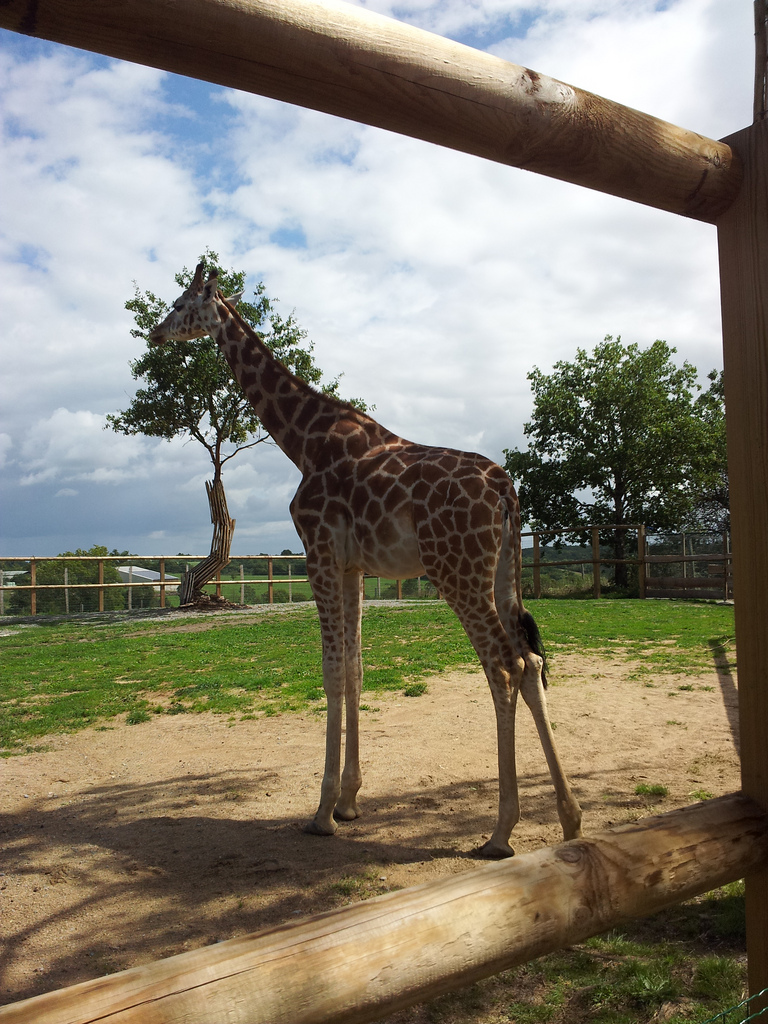giraffe: (158, 275, 616, 863)
